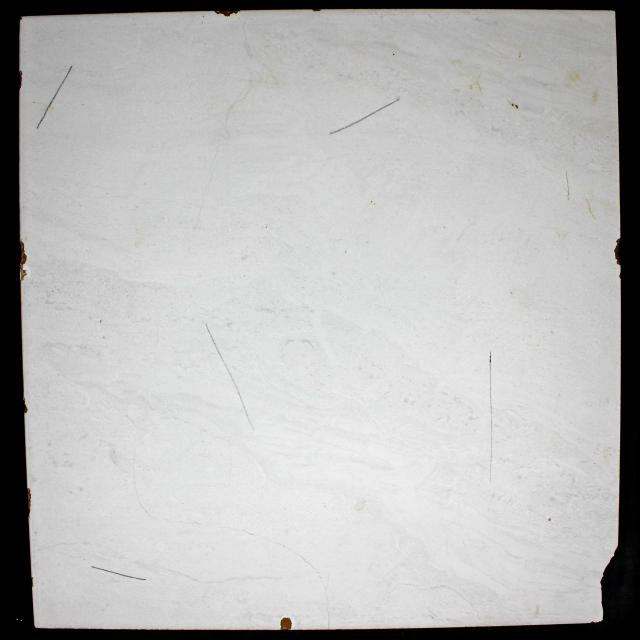edge-chipping: (602, 546, 618, 577), (20, 239, 27, 281), (213, 10, 240, 18), (614, 238, 621, 265), (279, 617, 292, 631), (600, 578, 604, 620), (27, 488, 32, 517), (18, 70, 22, 91), (24, 397, 28, 414), (312, 9, 323, 12), (31, 577, 34, 587), (20, 17, 22, 20)
hole: (548, 518, 552, 521)
line: (206, 324, 253, 430), (205, 524, 300, 556), (329, 98, 400, 134), (36, 66, 72, 130), (302, 558, 331, 626), (133, 436, 146, 510), (146, 509, 204, 524), (92, 566, 146, 580), (489, 351, 493, 480)
